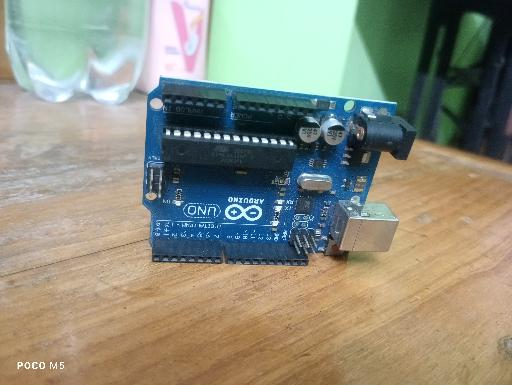Arduino: (142, 75, 417, 267)
